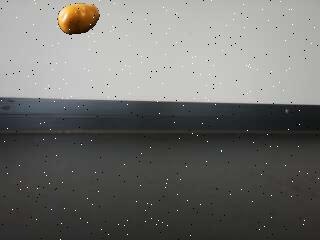Potato: (58, 2, 101, 35)
